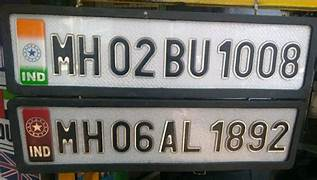number_plate: (13, 12, 306, 91)
